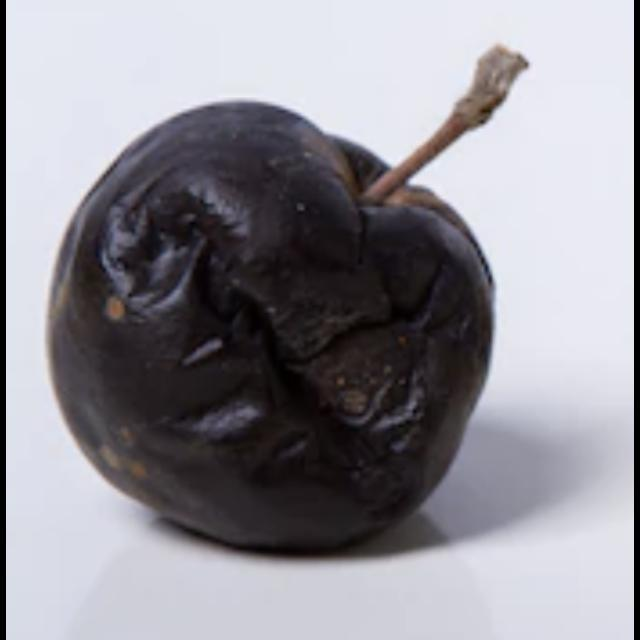Apel Tidak Segar: (39, 96, 507, 562)
